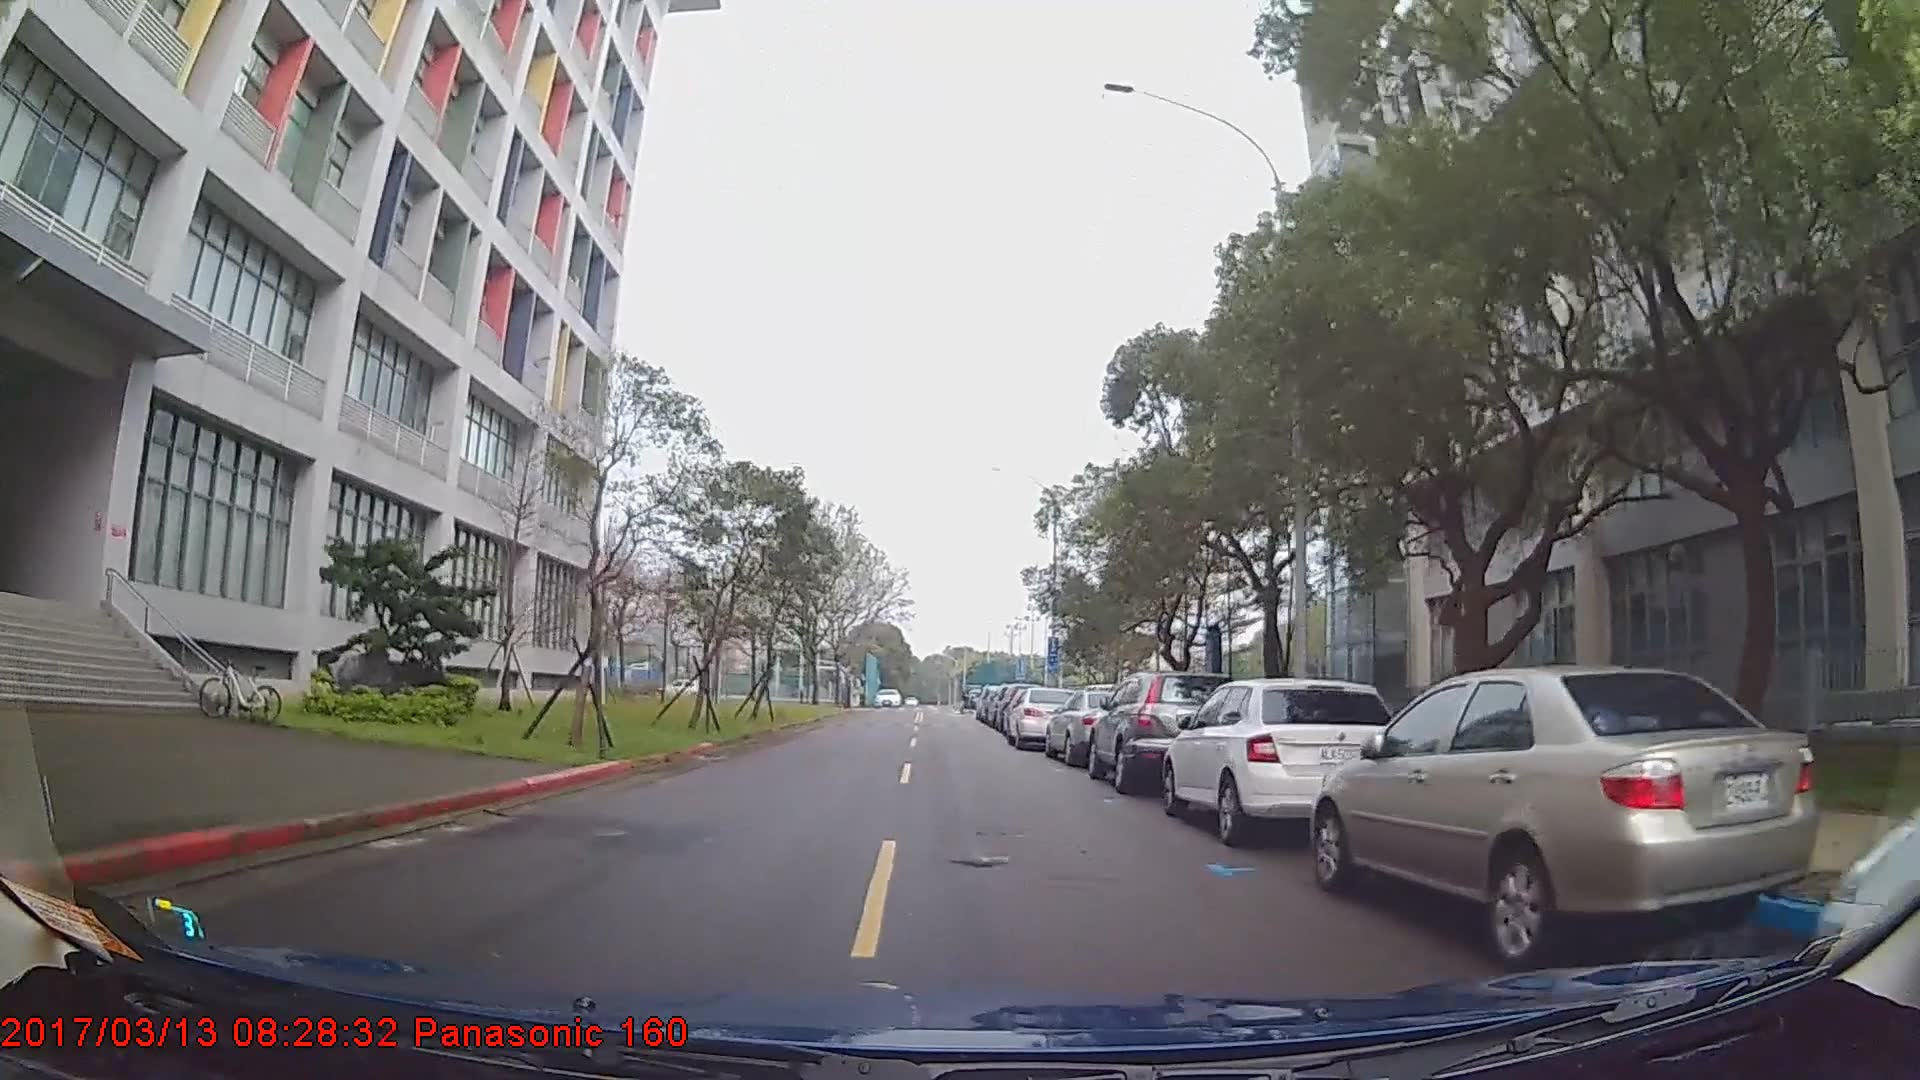vehicle: (1313, 665, 1825, 969), (1160, 676, 1400, 843), (1085, 670, 1245, 795), (1043, 686, 1141, 767), (1005, 684, 1080, 750)
